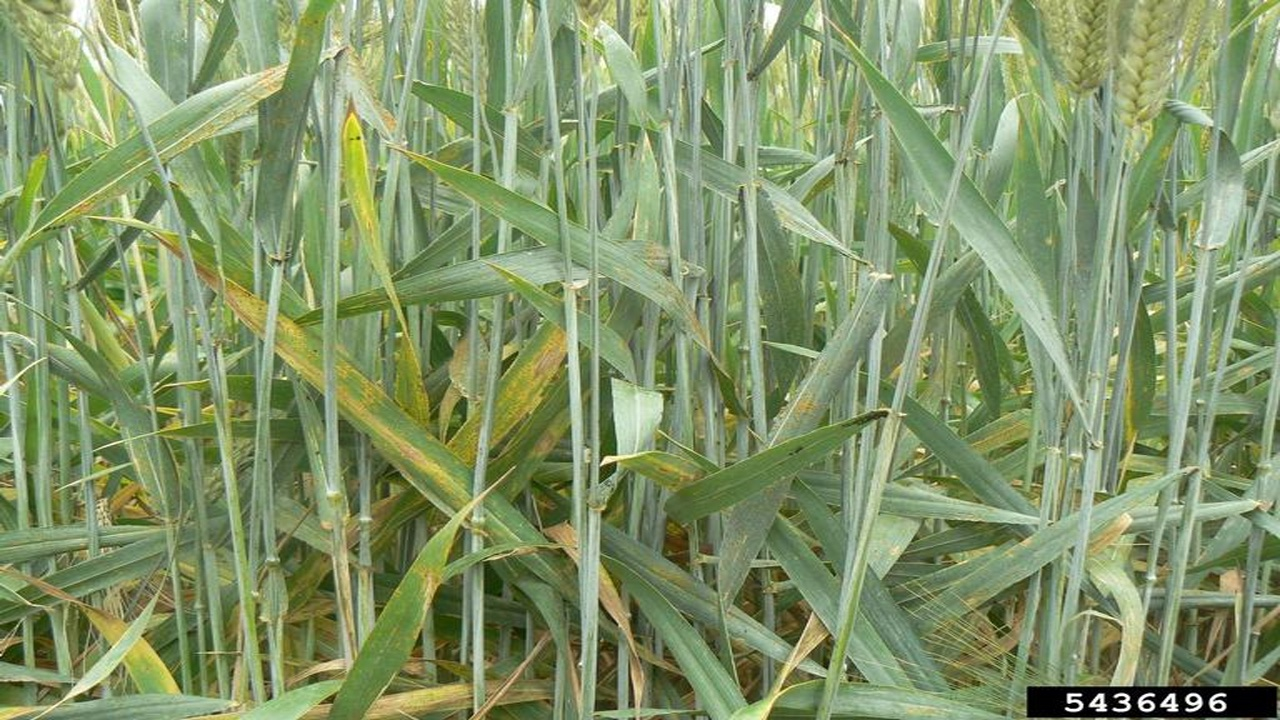leaf_rust: (207, 267, 555, 555), (31, 67, 279, 230), (332, 89, 424, 270)
